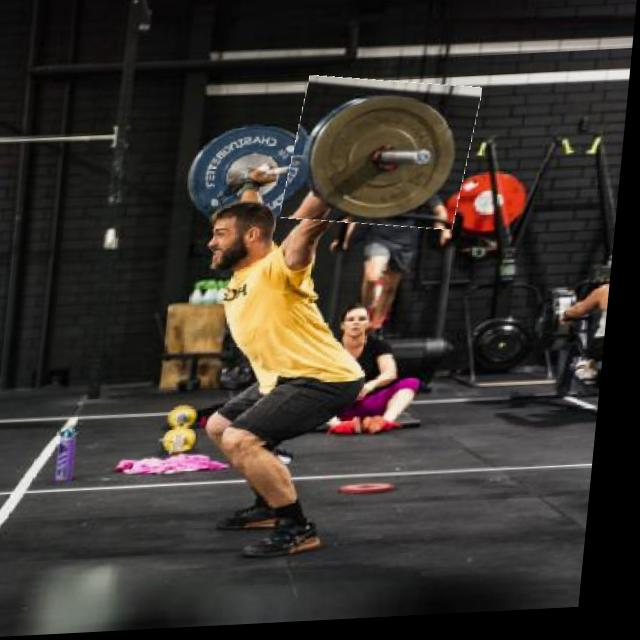barbell: (288, 78, 482, 237)
